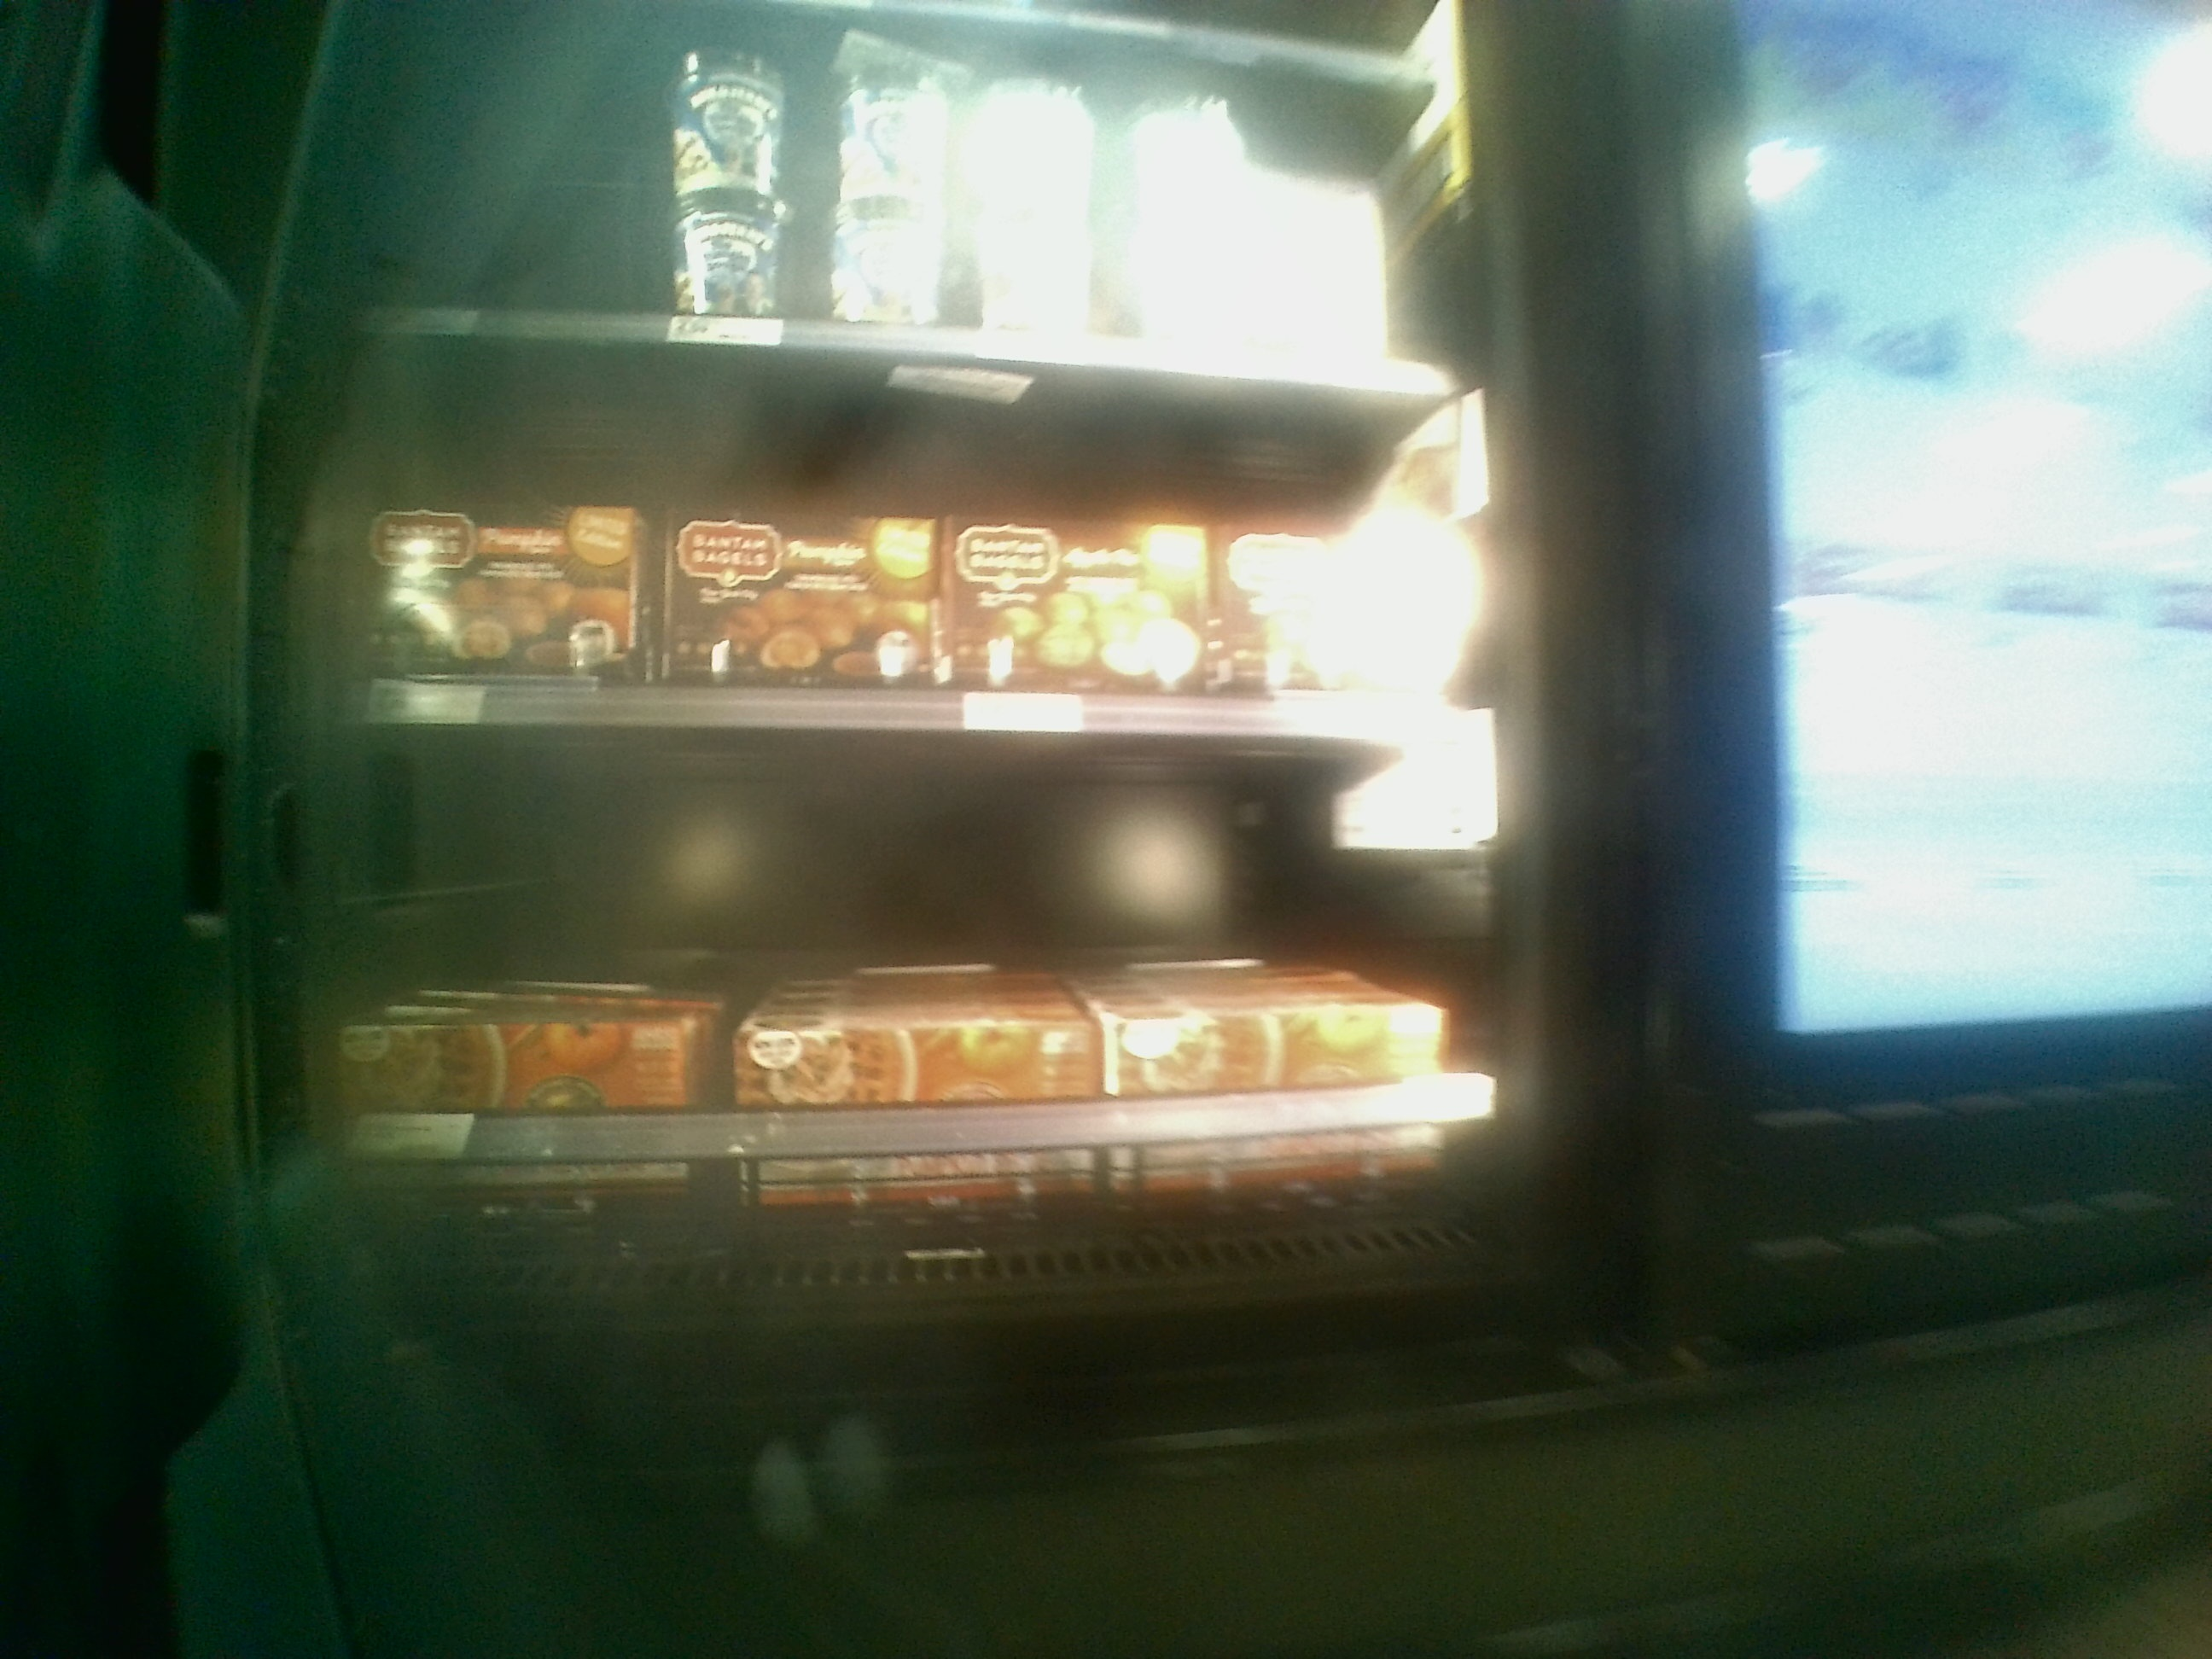shelf: (265, 713, 1550, 1300), (294, 328, 1548, 744)
